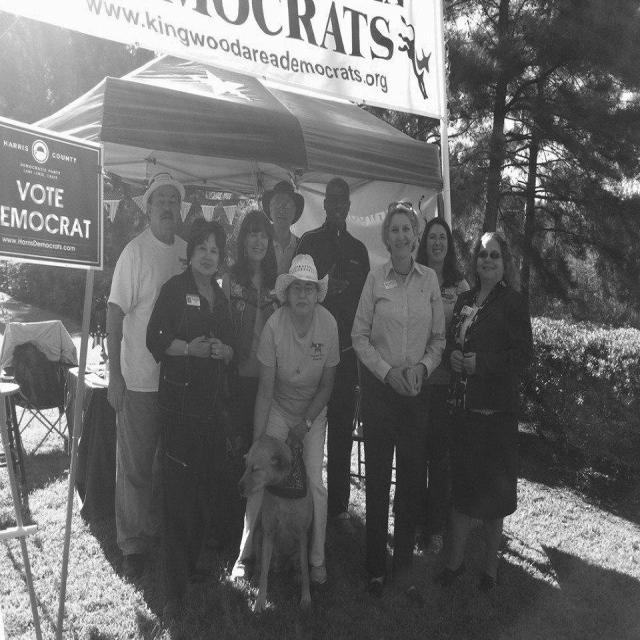person: (350, 202, 454, 600), (146, 216, 246, 600), (104, 180, 195, 578), (241, 261, 342, 606), (445, 229, 538, 588), (224, 213, 280, 385), (415, 218, 472, 315), (318, 181, 365, 275), (268, 184, 306, 274)
